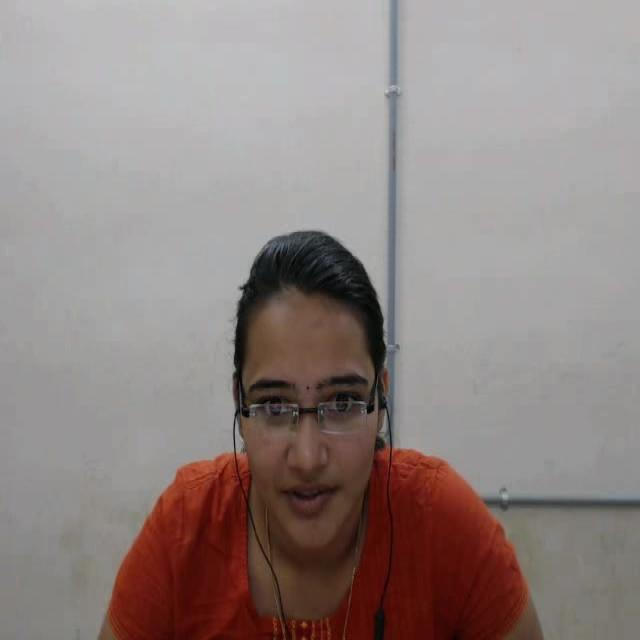Engaged: (195, 198, 416, 584)
